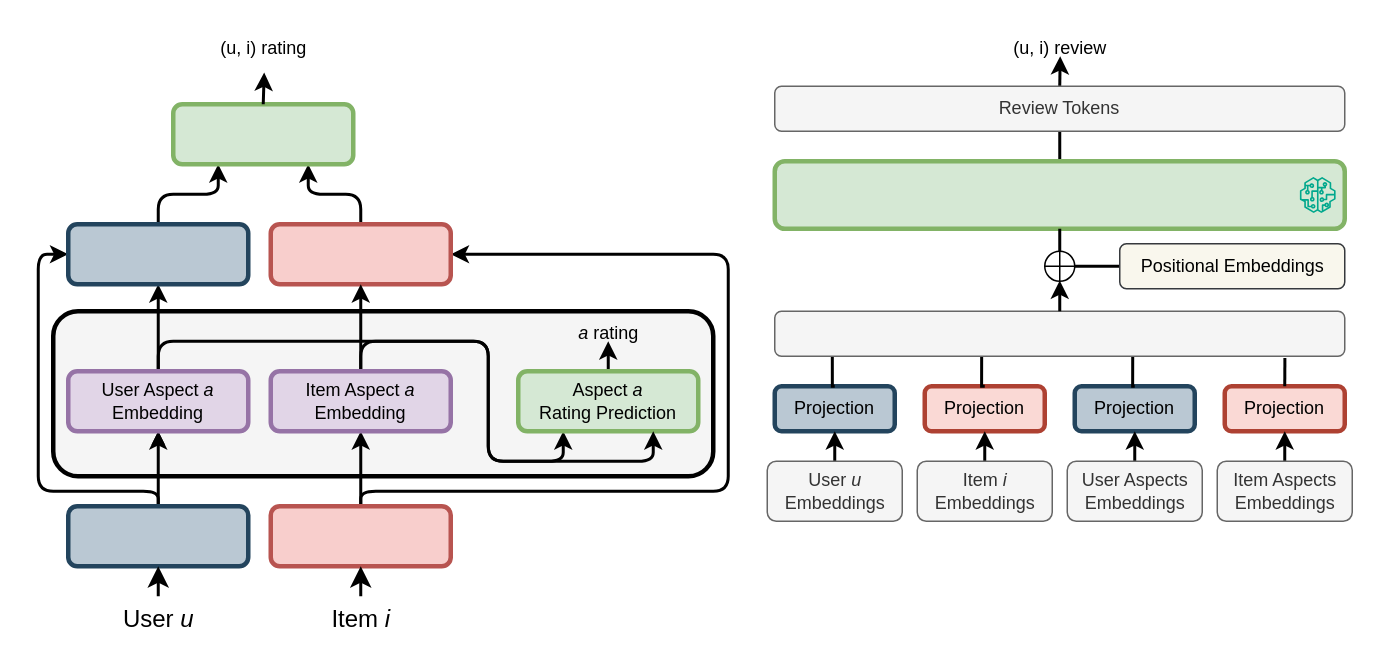
The diagram is 1379 pixels wide and 666 high, and some of its shapes have lost their labels. Here are the shapes that lost their labels. From the top down, the box of each, then its label:
(170, 101, 355, 166): Overall Rating Prediction
(772, 158, 1346, 230): Transformer Encoder-Decoder (T5) Decoder-Only (Llama)
(65, 221, 250, 286): User Attention
(268, 221, 452, 286): Item Attention
(773, 310, 1345, 356): Tokens Embeddings
(65, 503, 250, 568): User Embedding
(268, 503, 452, 568): Item Embedding
